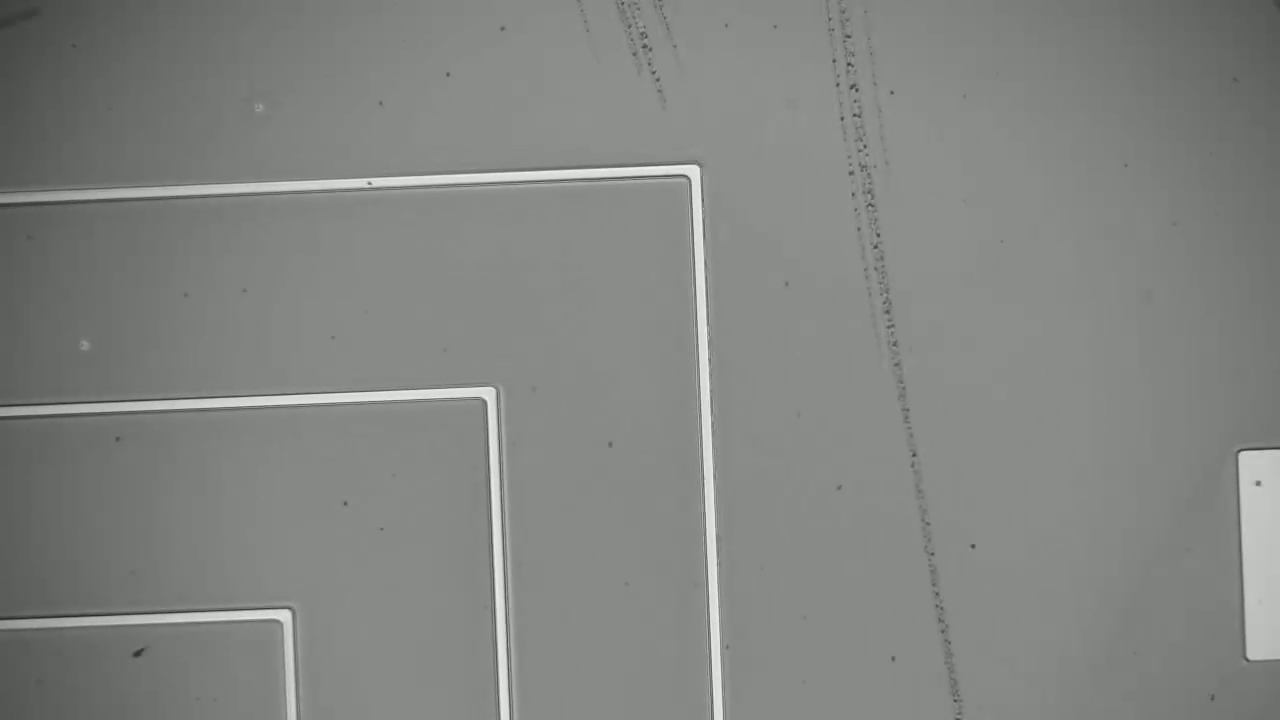scratch: (832, 1, 971, 720)
